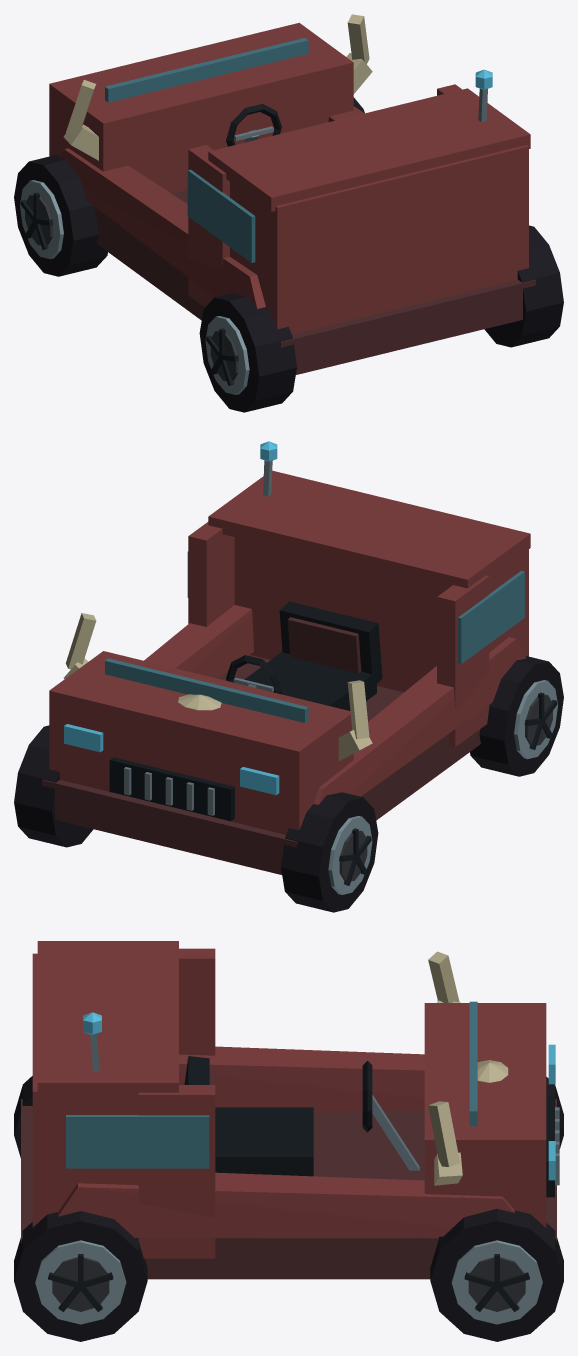
File: kart.glb
3 views of the same model, one above another, from view 1: azimuth 30°, elevation 25°; view 2: azimuth 150°, elevation 25°; view 3: azimuth 270°, elevation 25° (orthographic). The views are drawn at different scales.
Parts seen in each view (by area): view 1: identity-van-van-utility-body, wheel-rear-left, wheel-front-left, wheel-rear-right, identity-van-motif-horns, identity-van-driver-cockpit, identity-van-motif-antenna; view 2: identity-van-van-utility-body, identity-van-driver-cockpit, wheel-front-left, wheel-rear-left, wheel-front-right, identity-van-motif-horns, identity-van-motif-antenna; view 3: identity-van-van-utility-body, wheel-front-right, wheel-rear-right, identity-van-driver-cockpit, identity-van-motif-horns, identity-van-motif-antenna, wheel-rear-left, identity-van-motif-skull.
Boxes of the visible parts, x1,y1,x2,y2 form: identity-van-van-utility-body: [49, 22, 535, 374]; wheel-rear-left: [199, 293, 296, 412]; wheel-front-left: [14, 155, 107, 276]; wheel-rear-right: [484, 225, 563, 347]; identity-van-motif-horns: [63, 14, 372, 160]; identity-van-driver-cockpit: [226, 104, 281, 146]; identity-van-motif-antenna: [475, 69, 492, 122]; identity-van-van-utility-body: [42, 470, 530, 874]; identity-van-driver-cockpit: [226, 601, 382, 710]; wheel-front-left: [281, 792, 378, 912]; wheel-rear-left: [470, 656, 563, 776]; wheel-front-right: [14, 725, 93, 847]; identity-van-motif-horns: [63, 613, 372, 760]; identity-van-motif-antenna: [260, 441, 277, 496]; identity-van-van-utility-body: [21, 941, 559, 1279]; wheel-front-right: [430, 1208, 563, 1341]; wheel-rear-right: [14, 1211, 147, 1341]; identity-van-driver-cockpit: [184, 1056, 419, 1176]; identity-van-motif-horns: [428, 951, 462, 1185]; identity-van-motif-antenna: [83, 1012, 101, 1072]; wheel-rear-left: [14, 1076, 32, 1157]; identity-van-motif-skull: [477, 1060, 508, 1082].
Bounding box in the file's own units: 2.13 × 1.72 × 2.8.
